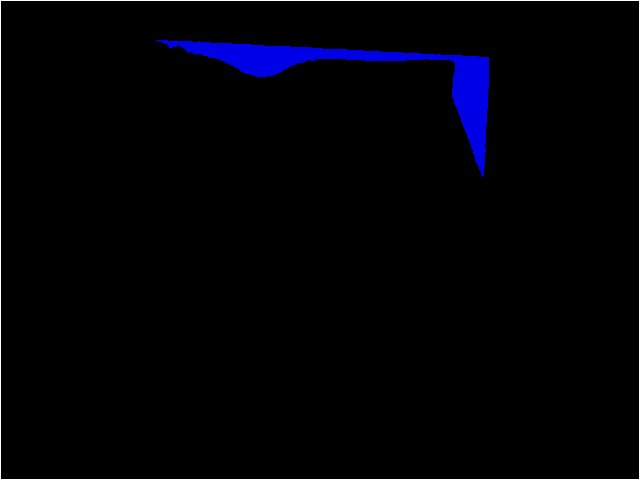defect: (155, 38, 490, 179)
